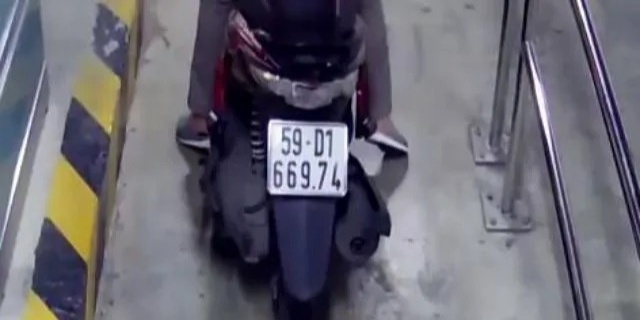bien_so: (267, 115, 348, 201)
